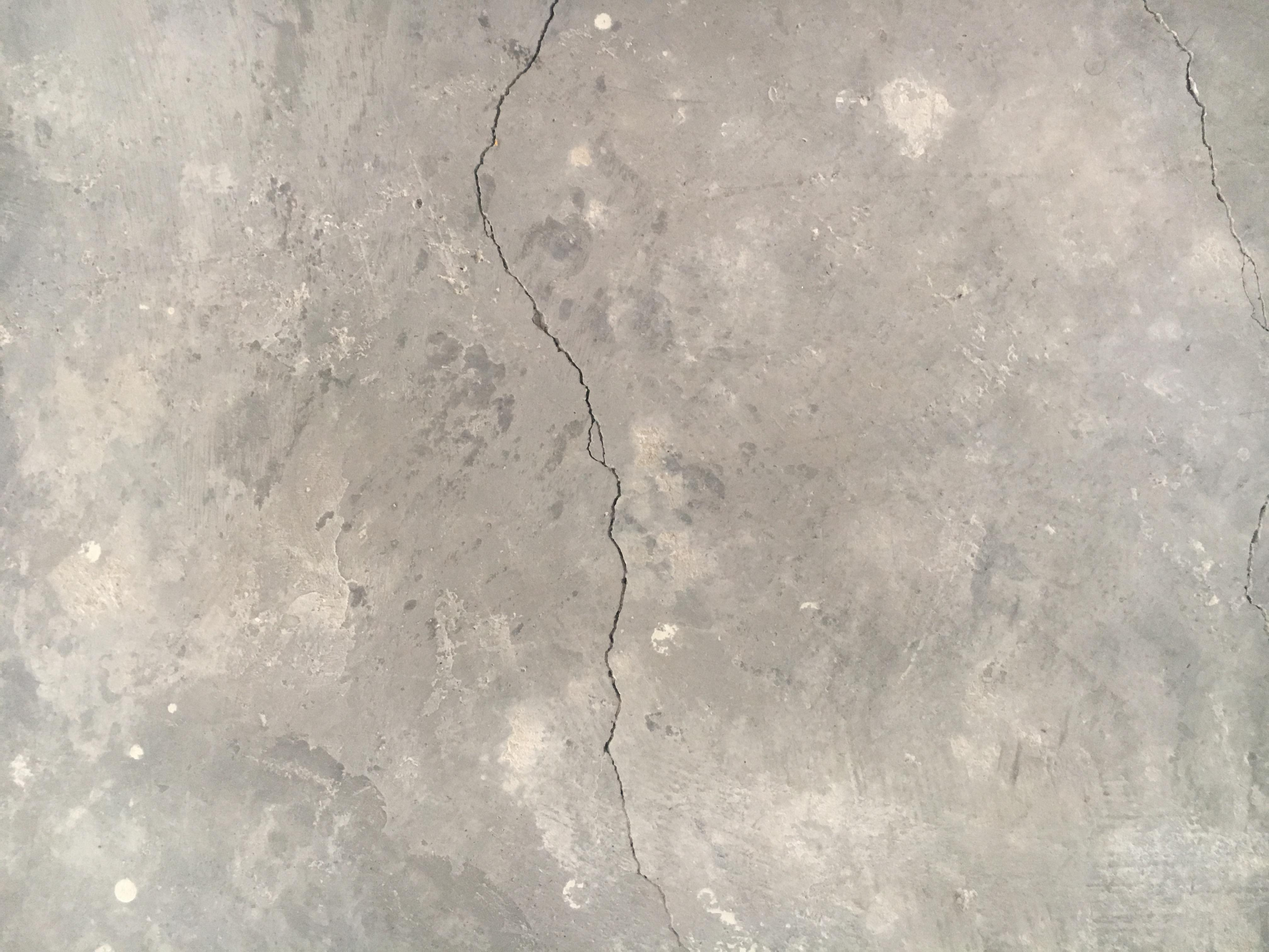Vertical Crack: (470, 2, 686, 948)
